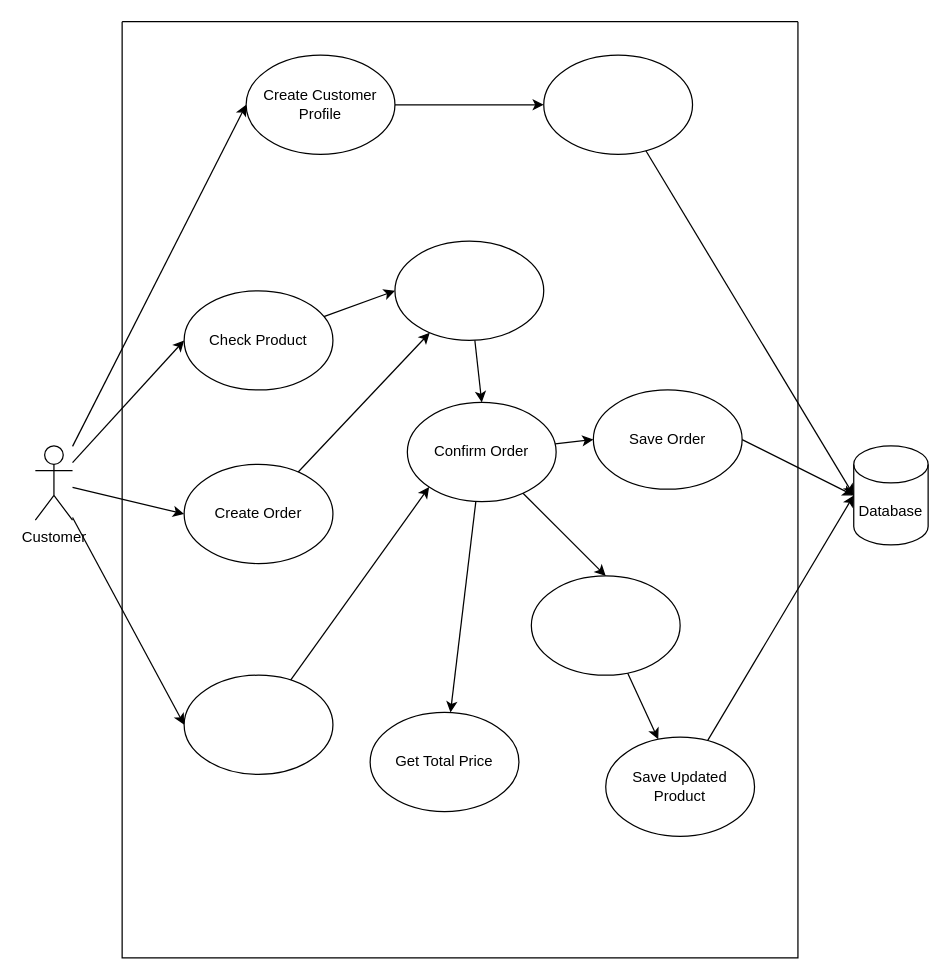
This 950x980 diagram has some shape labels left out. The centre of each missing label's shape, as x and y in pixels:
Add Product to Order: point 469,290
Delete Product from Order: point 258,724
Save Customer Profile: point 617,104
Update the product Stock: point 605,625
